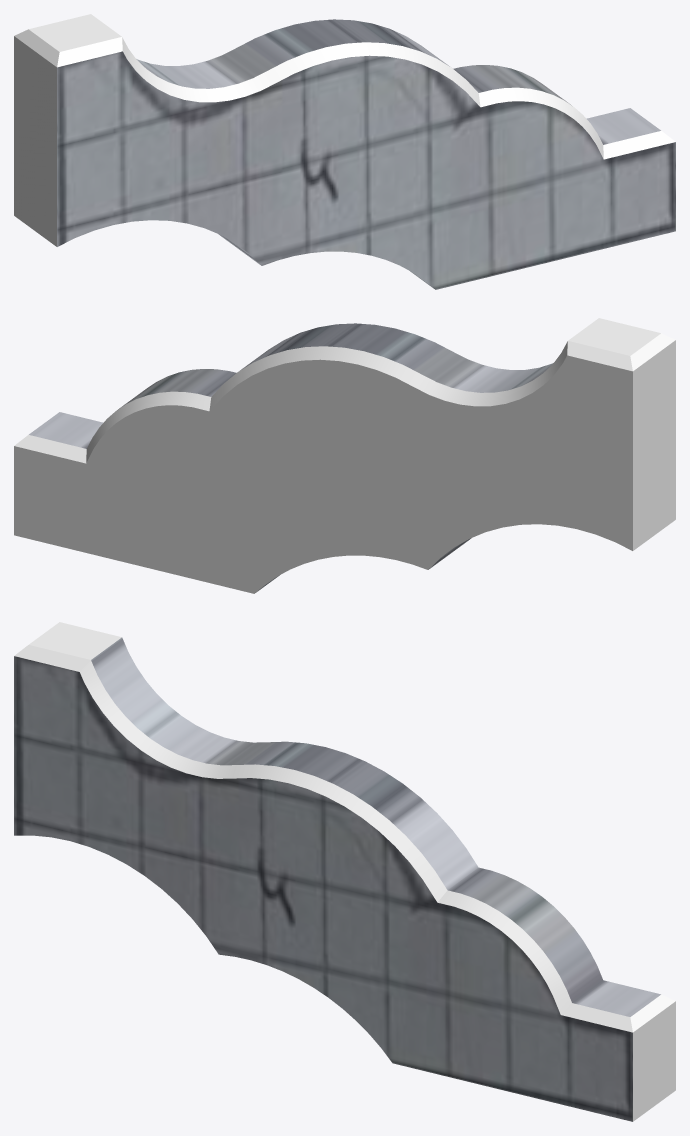
Rendered from fence_corner_003.glb.
3 renders of one model, top to bottom at view 1: azimuth 30°, elevation 25°; view 2: azimuth 150°, elevation 25°; view 3: azimuth 330°, elevation 25°, orthographic.
Parts seen in each view (by area): view 1: 3DGeom-2, 3DGeom-1; view 2: 3DGeom-1, 3DGeom-2; view 3: 3DGeom-2, 3DGeom-1.
Boxes of the visible parts, x1,y1,x2,y2 form: 3DGeom-2: [57, 19, 675, 289]; 3DGeom-1: [14, 14, 675, 246]; 3DGeom-1: [14, 318, 675, 593]; 3DGeom-2: [29, 323, 553, 592]; 3DGeom-2: [14, 637, 660, 1121]; 3DGeom-1: [14, 622, 675, 1121].
Size of the model in its own units: 0.385 by 0.1925 by 0.0464.
2 materials, 1 textured.
